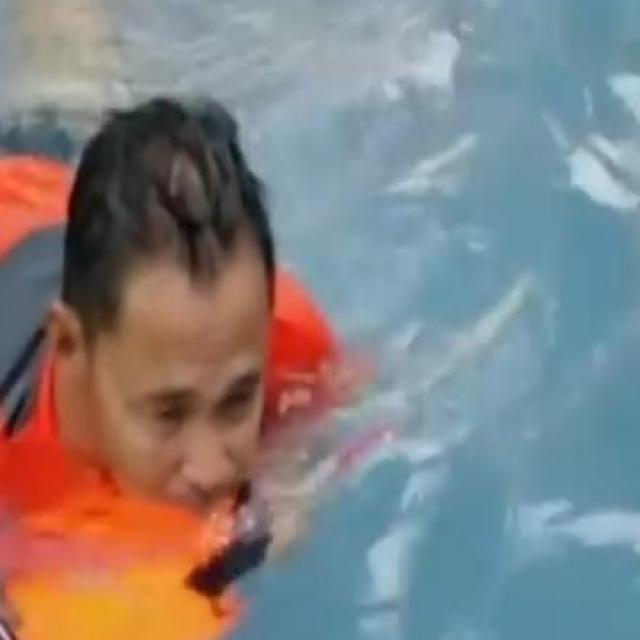Swimming: (4, 83, 362, 632)
